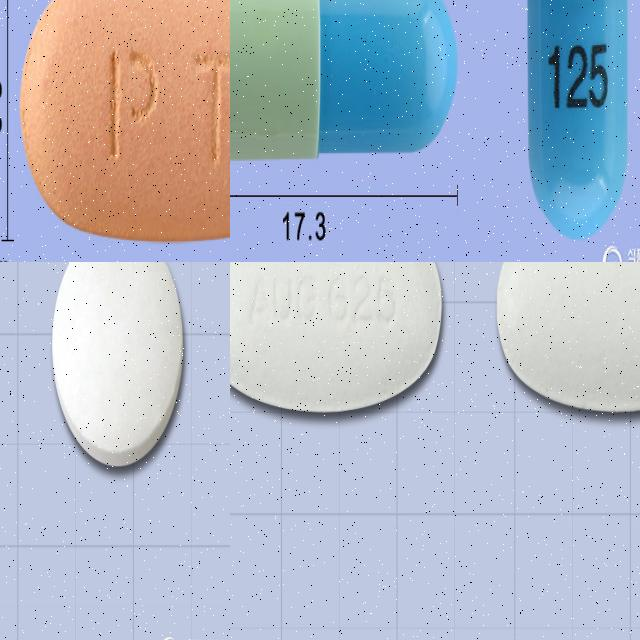Ilsung Augmentin: (230, 262, 443, 414), (497, 262, 640, 410)
Propocin Tab: (51, 262, 185, 467)
Uropenta Tab: (19, 0, 230, 241)
Vancozin Cap-250mg: (230, 0, 458, 159), (521, 0, 633, 238)
